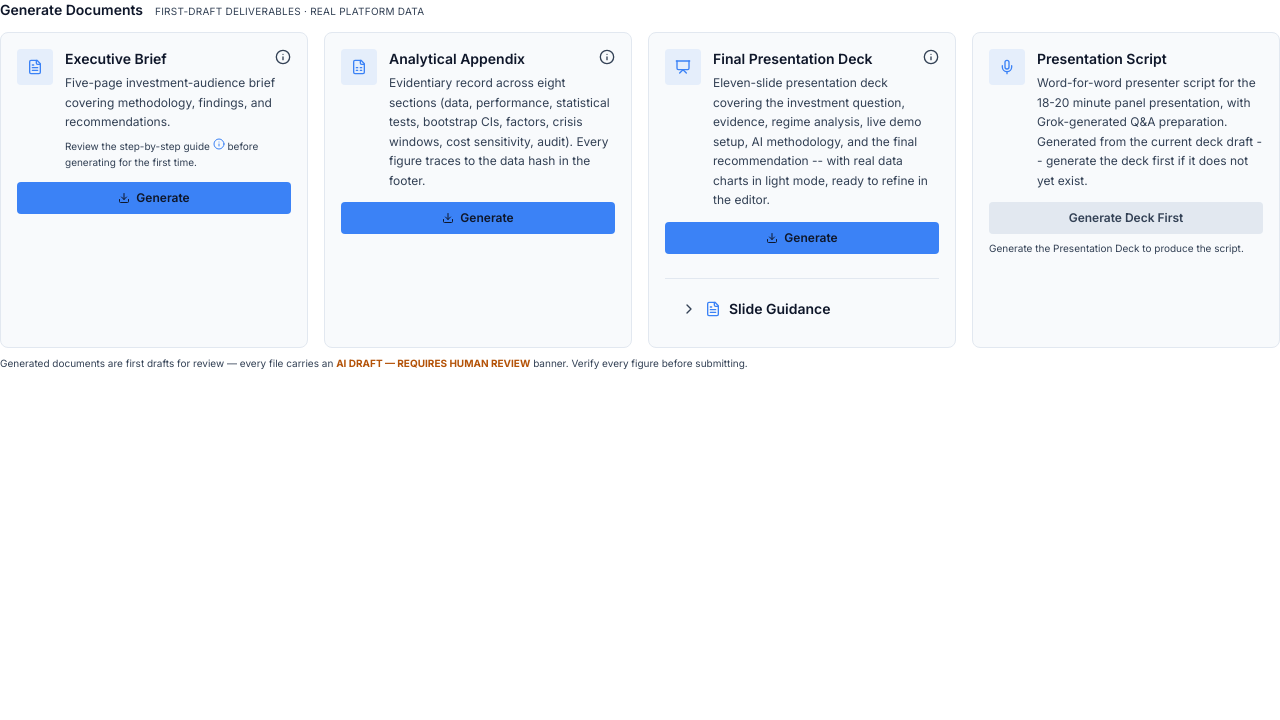
Test: DocumentGenerationPanel — Brief Workflow guide › clicking the Info button opens the workflow modal
Click the button with test id "brief-workflow-info-button".
click(283, 57)  # box [275, 49, 291, 65]
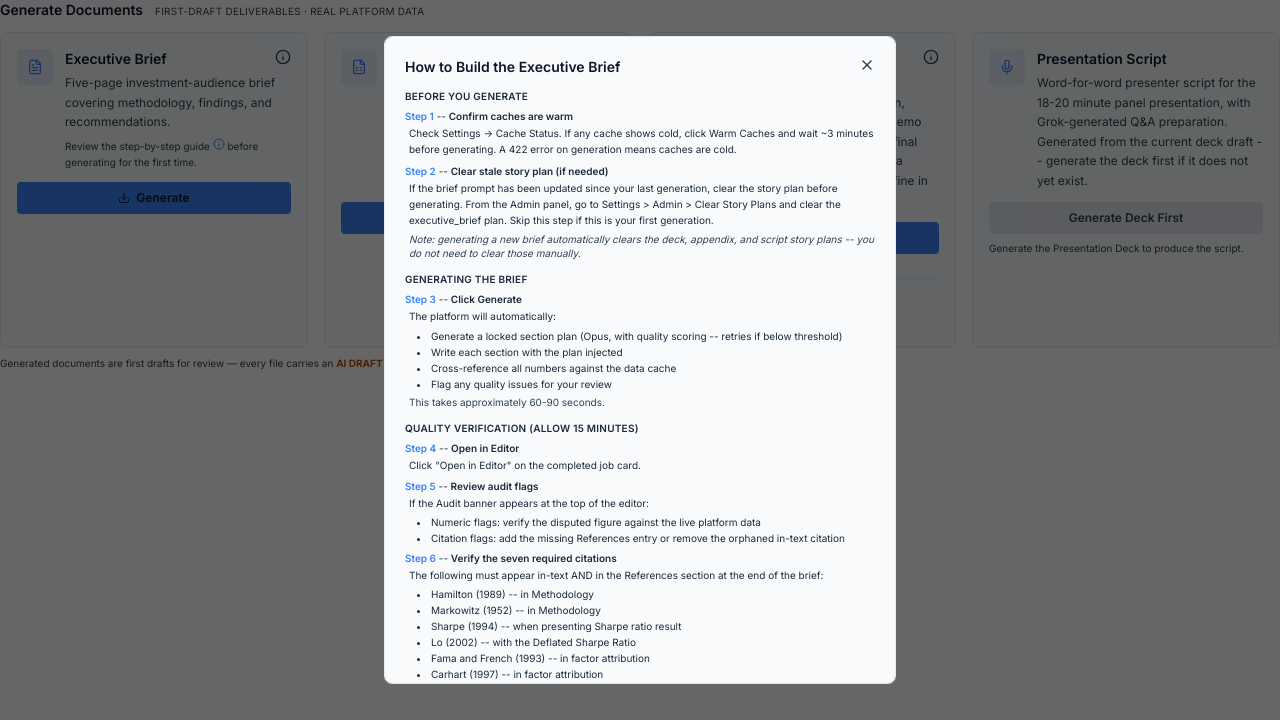
Check: the element with test id "brief-workflow-modal" is shown
Check: the heading "How to Build the Executive Brief" is shown, box [405, 57, 620, 77]
